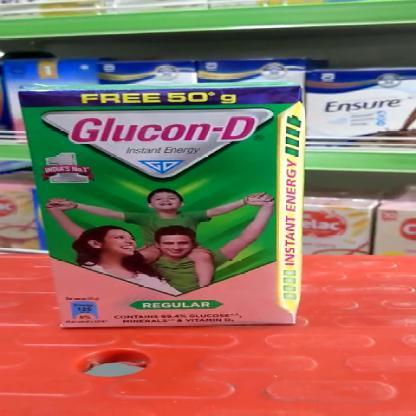Glucon D Regular 1-KG: (26, 82, 286, 326)
